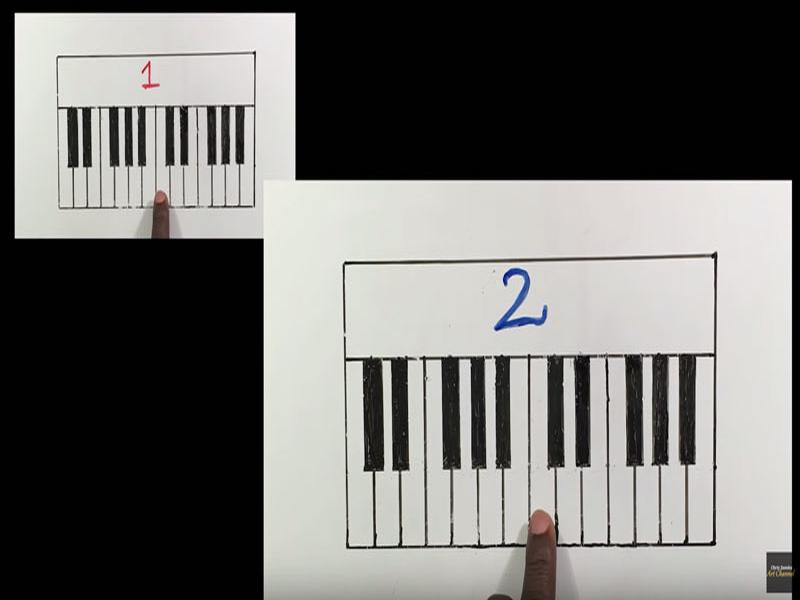piano: (340, 354, 721, 550), (55, 102, 257, 212)
